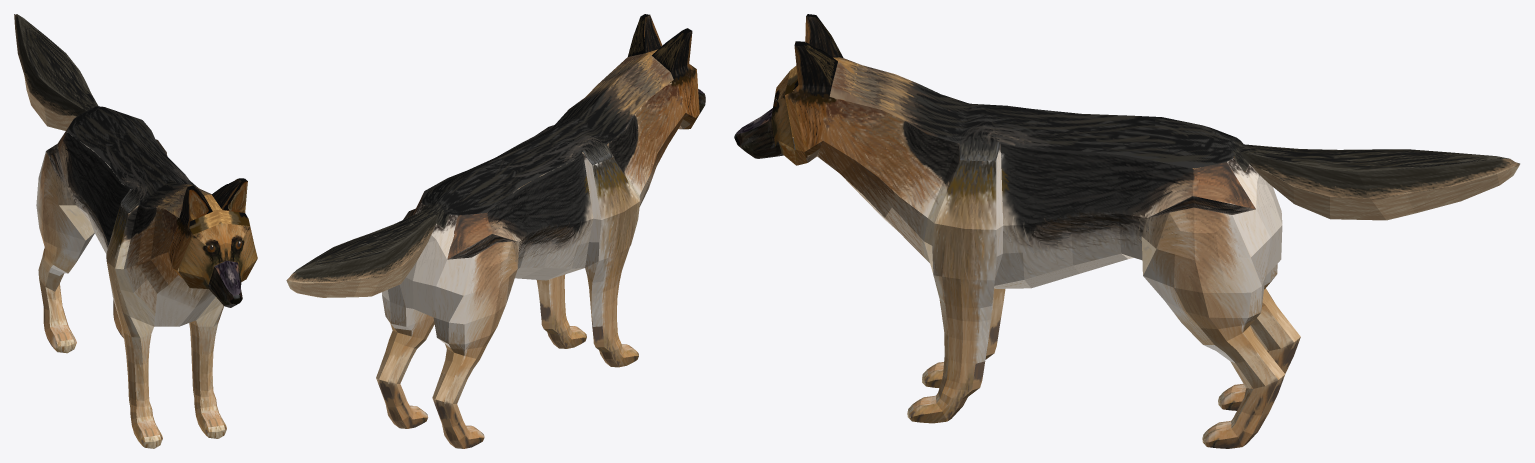
File: rover.FBX
The picture shows the model from 3 angles, left to right: view 1: azimuth 30°, elevation 25°; view 2: azimuth 150°, elevation 25°; view 3: azimuth 270°, elevation 25°; orthographic projection. The views are drawn at different scales.
Visible parts, largest first — view 1: main body; view 2: main body; view 3: main body.
Part boxes in pixels (left/top/right/bottom): main body: left=14, top=14, right=257, bottom=448; main body: left=286, top=14, right=705, bottom=448; main body: left=734, top=14, right=1519, bottom=448.
Bounding box in the file's own units: 0.5751 × 1.16 × 2.26.
Materials: 1 (1 with a texture image).
